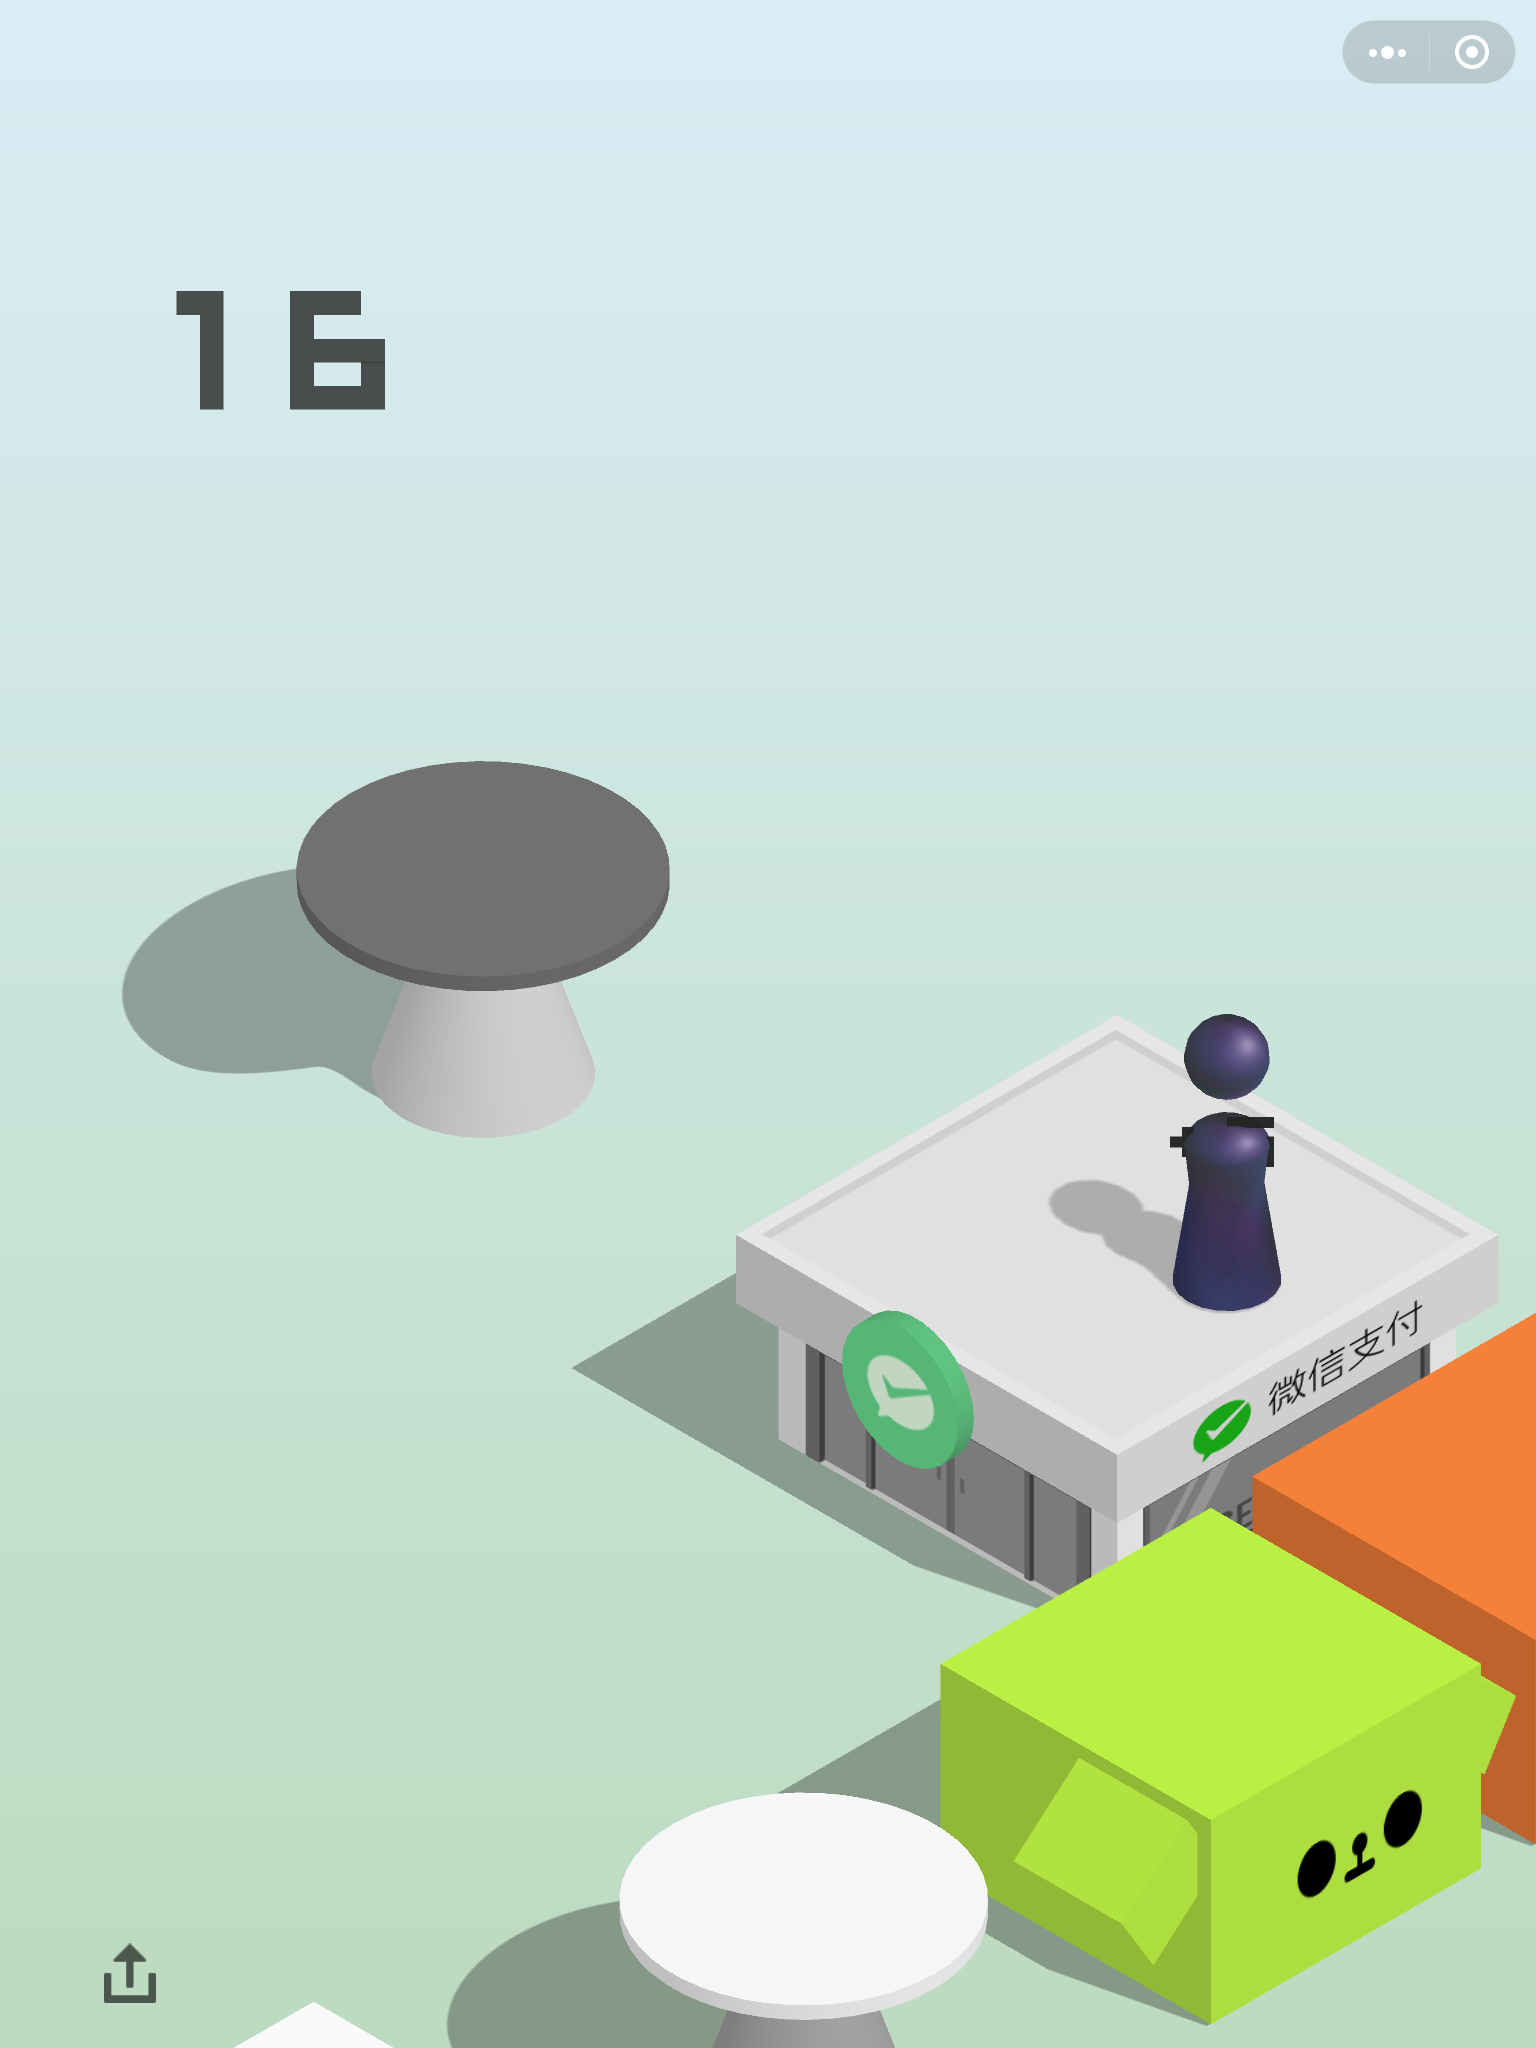c: (287, 756, 673, 1147), (608, 1787, 999, 2048)
f: (728, 1011, 1502, 1611), (933, 1501, 1520, 2032), (1247, 1295, 1536, 1848)
r: (1163, 1006, 1284, 1313)
